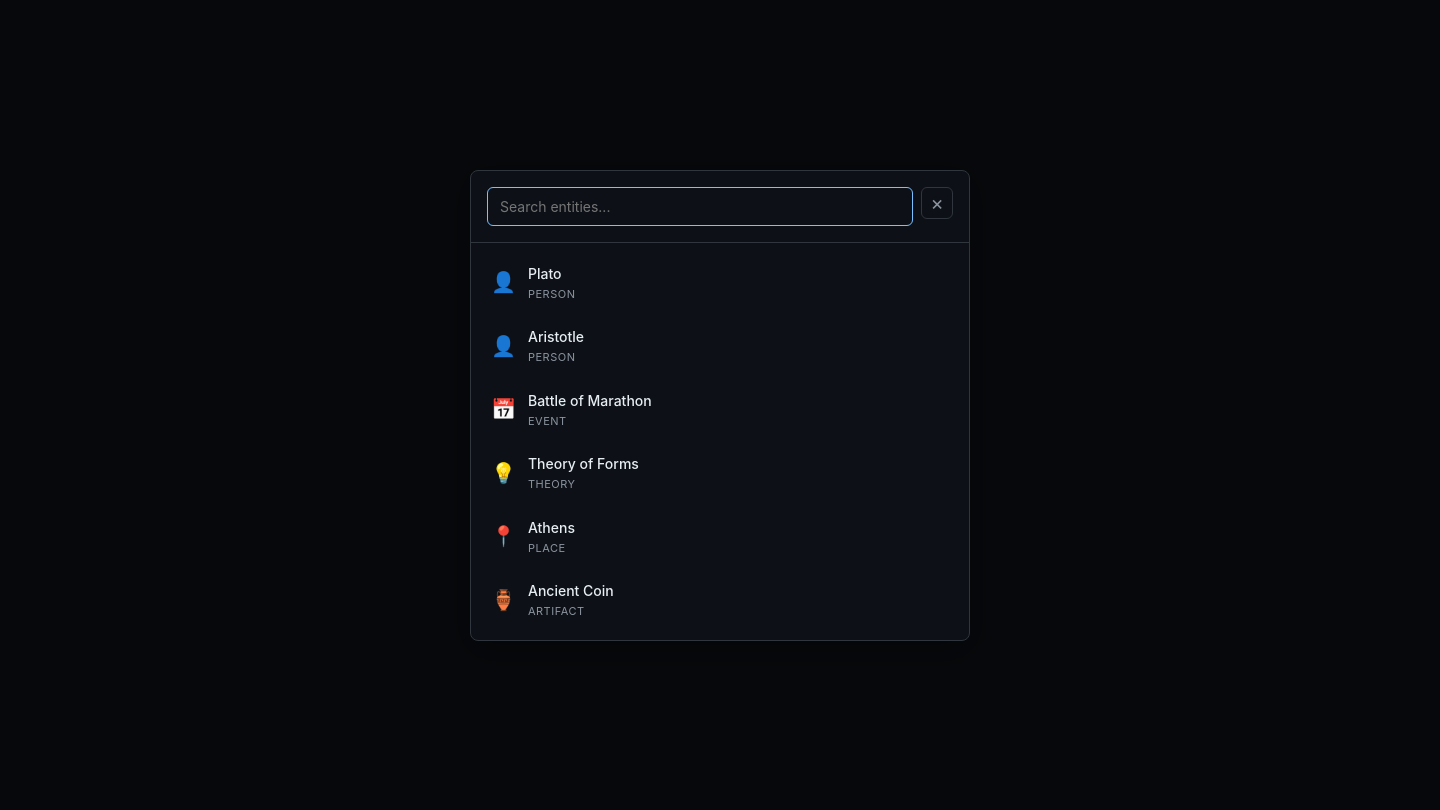
Test: EntityPicker › shows empty state when no entities match
Type "nonexistent" into the field with placeholder "Search entities..." at (700, 206), box [487,186,913,226]
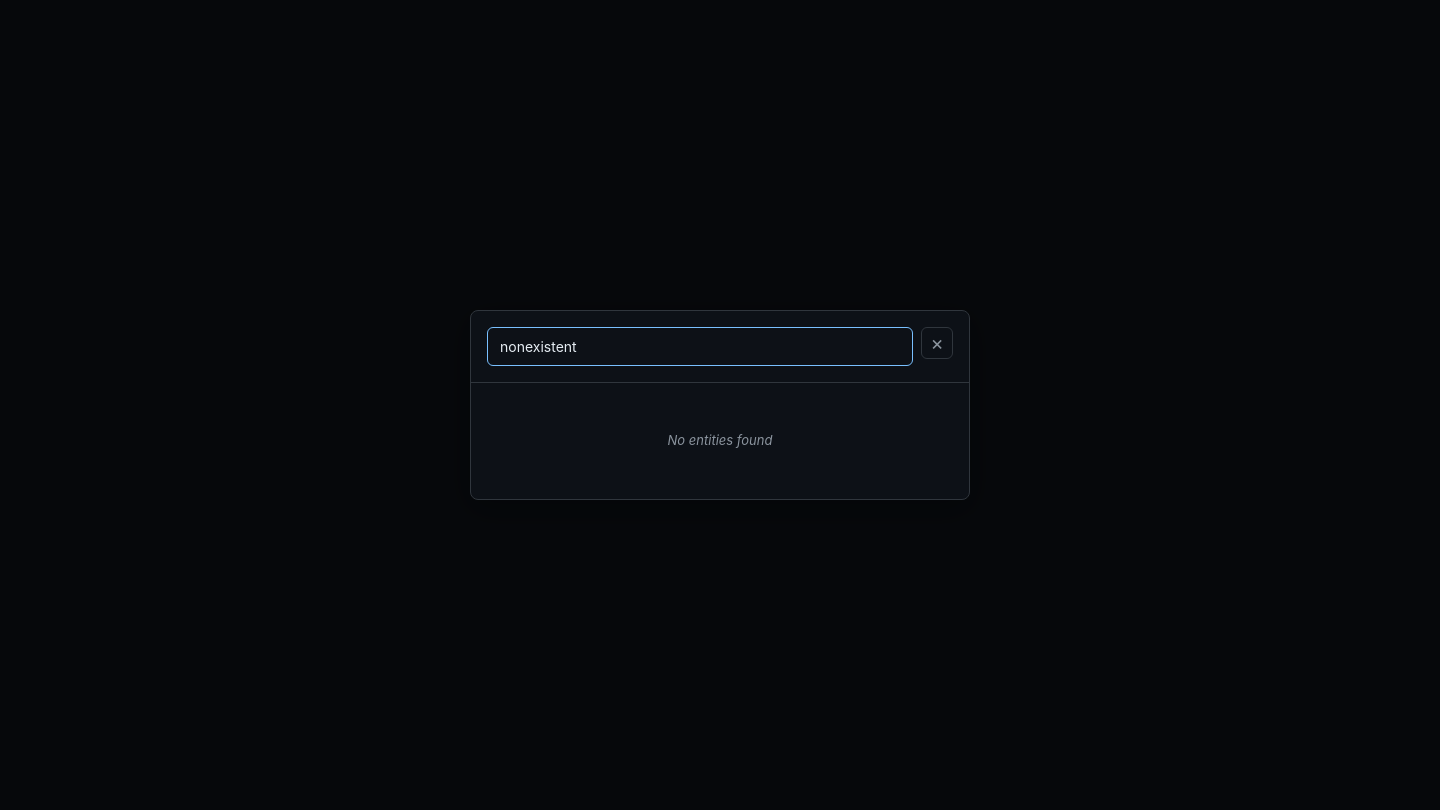
expect the text "No entities found" is shown: met, box [668,432,772,448]
expect the text "Plato" is gone: met
